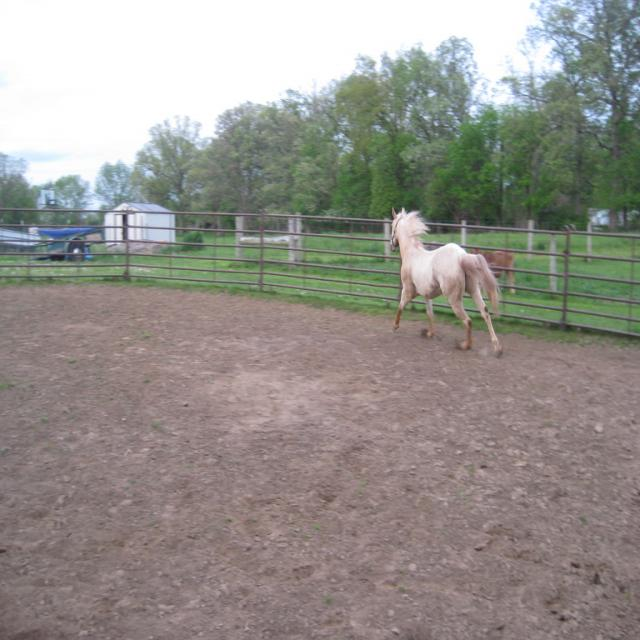Horse: (388, 208, 502, 358)
